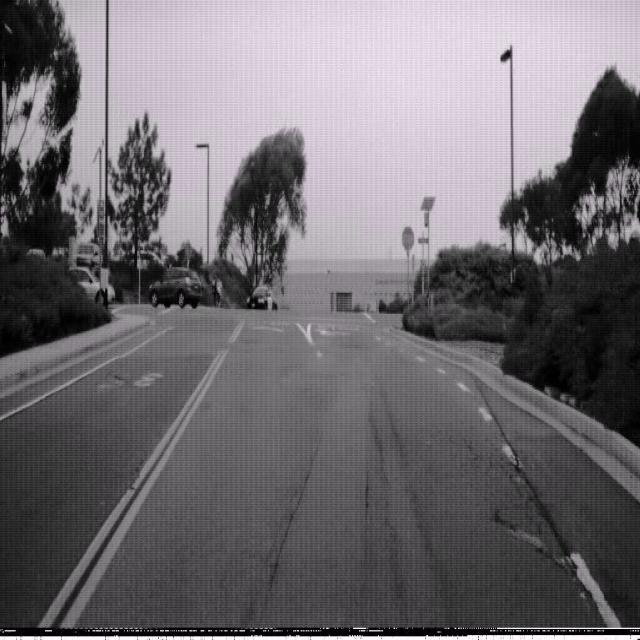stop_sign: (401, 225, 415, 252)
